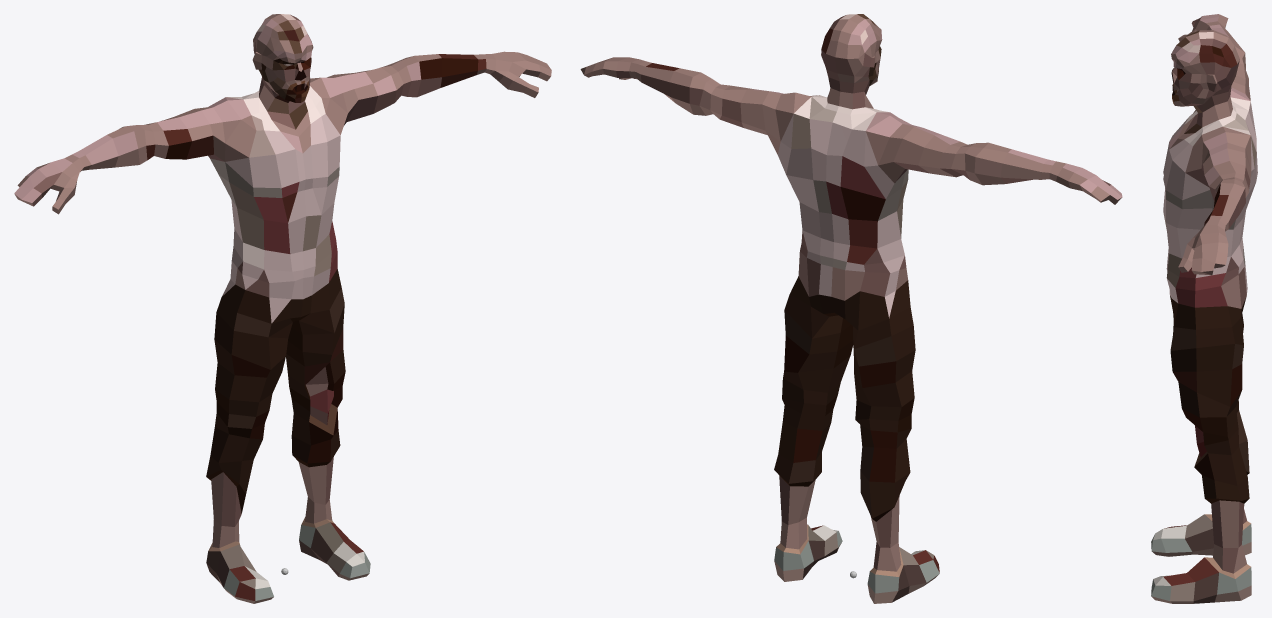
Rendered from Zombie_normal.fbx.
The picture shows the model from 3 angles, left to right: view 1: azimuth 30°, elevation 25°; view 2: azimuth 150°, elevation 25°; view 3: azimuth 270°, elevation 25°; orthographic projection. The views are drawn at different scales.
Visible parts, largest first — view 1: Object_344; view 2: Object_344; view 3: Object_344.
Boxes of the visible parts, left/top/right/bottom form: Object_344: left=14, top=14, right=551, bottom=603; Object_344: left=580, top=14, right=1122, bottom=603; Object_344: left=1151, top=14, right=1257, bottom=603.
Bounding box in the file's own units: 16871 × 16871 × 2998.
